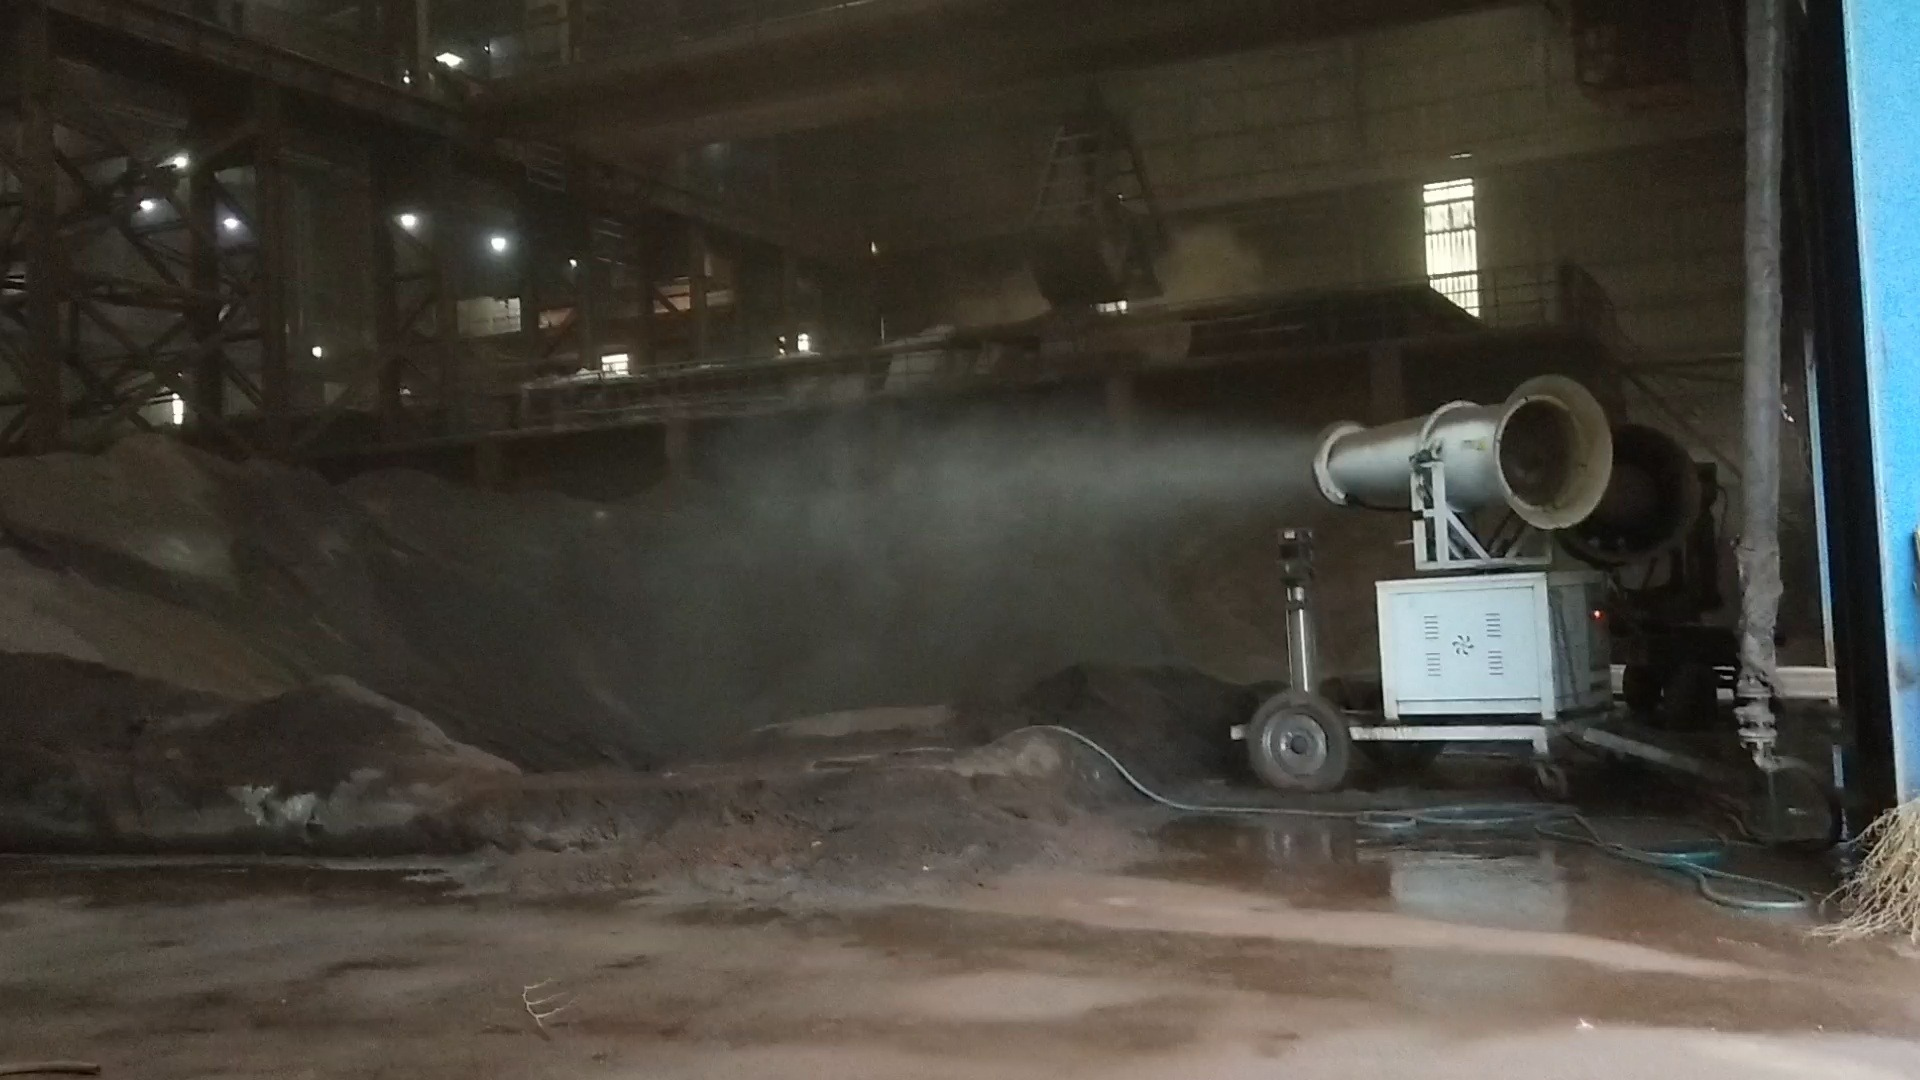dust: (450, 384, 1317, 688)
grab: (1014, 70, 1185, 315)
